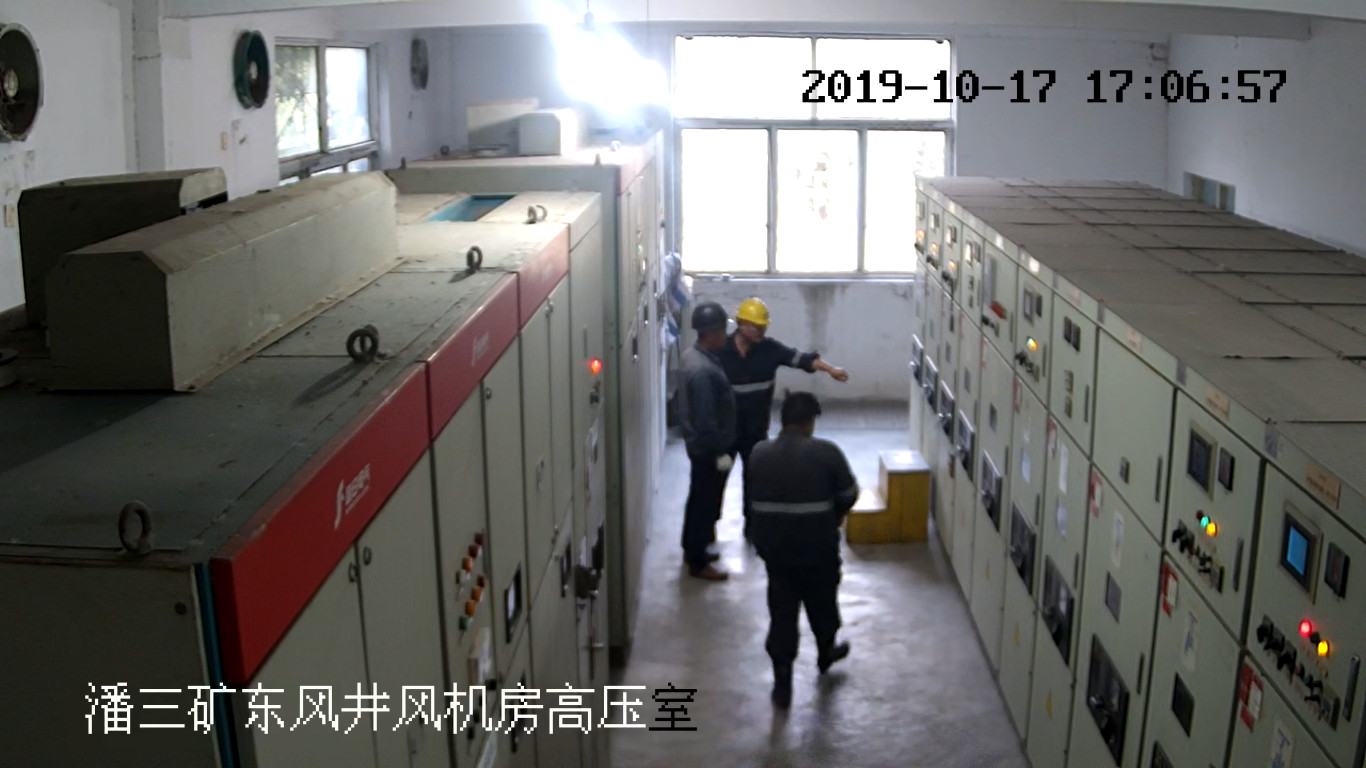helmet: (691, 300, 735, 330), (734, 297, 772, 324)
